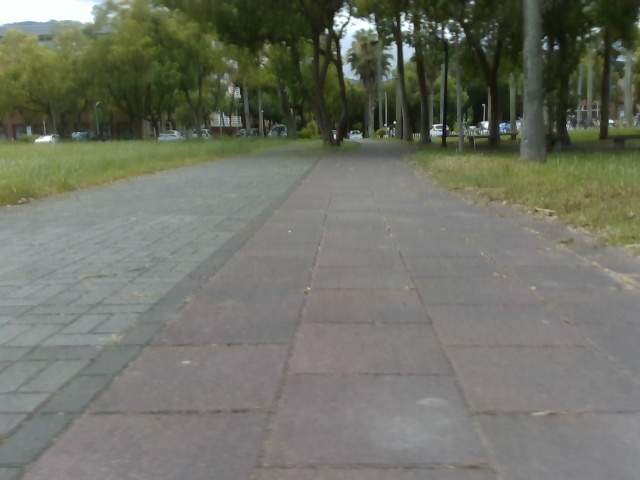grass: (0, 127, 639, 260), (0, 0, 522, 148), (541, 0, 639, 148)
road: (0, 142, 639, 479)
sidewalk: (41, 192, 228, 332)
